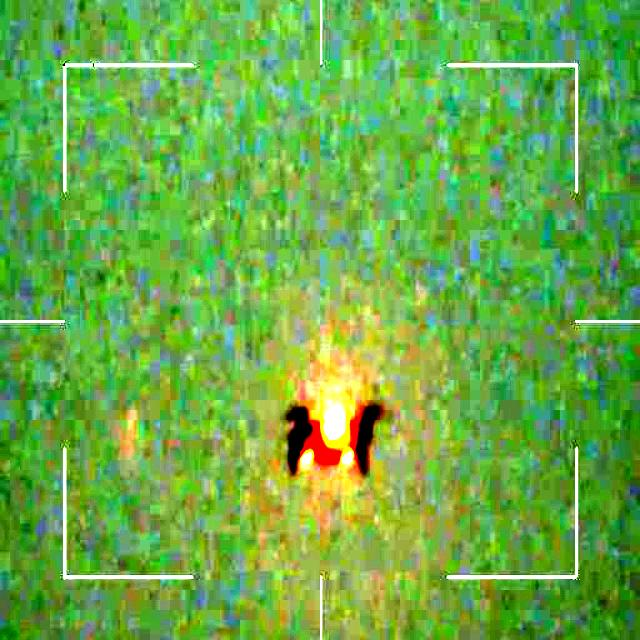bird: (284, 386, 390, 479)
